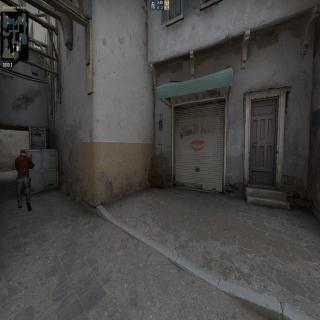T-Head: (20, 148, 26, 156)
